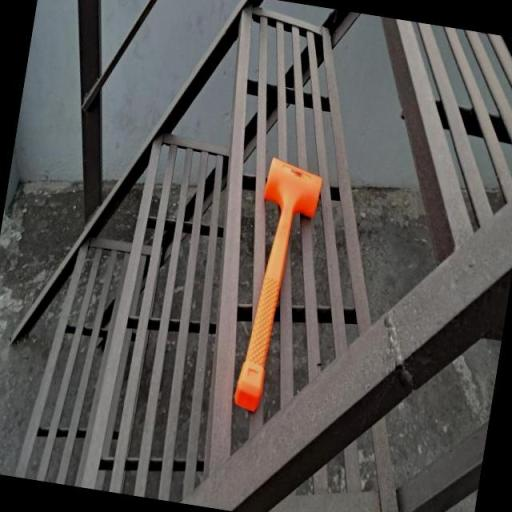mallet: (231, 154, 325, 419)
